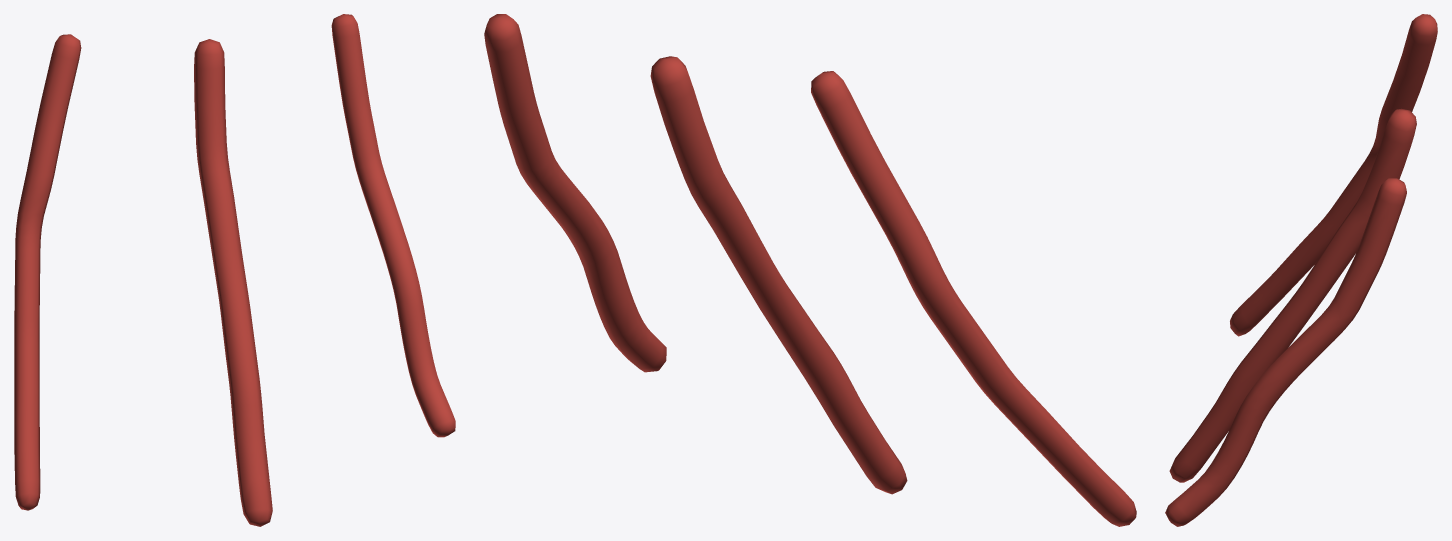
The model's file is musculos-synovial-sheaths-of-digits-of-hand-r.glb.
3 renders of one model, left to right at view 1: azimuth 30°, elevation 25°; view 2: azimuth 150°, elevation 25°; view 3: azimuth 270°, elevation 25°, orthographic. The views are drawn at different scales.
Visible parts, largest first — view 1: Synovial sheaths of digits of hand.r; view 2: Synovial sheaths of digits of hand.r; view 3: Synovial sheaths of digits of hand.r.
Part boxes in pixels (x1,y1,x2,y2): Synovial sheaths of digits of hand.r: (14,14,455,526); Synovial sheaths of digits of hand.r: (484,14,1136,526); Synovial sheaths of digits of hand.r: (1165,14,1437,526).
Bounding box in the file's own units: 0.0599 × 0.0581 × 0.0334.
